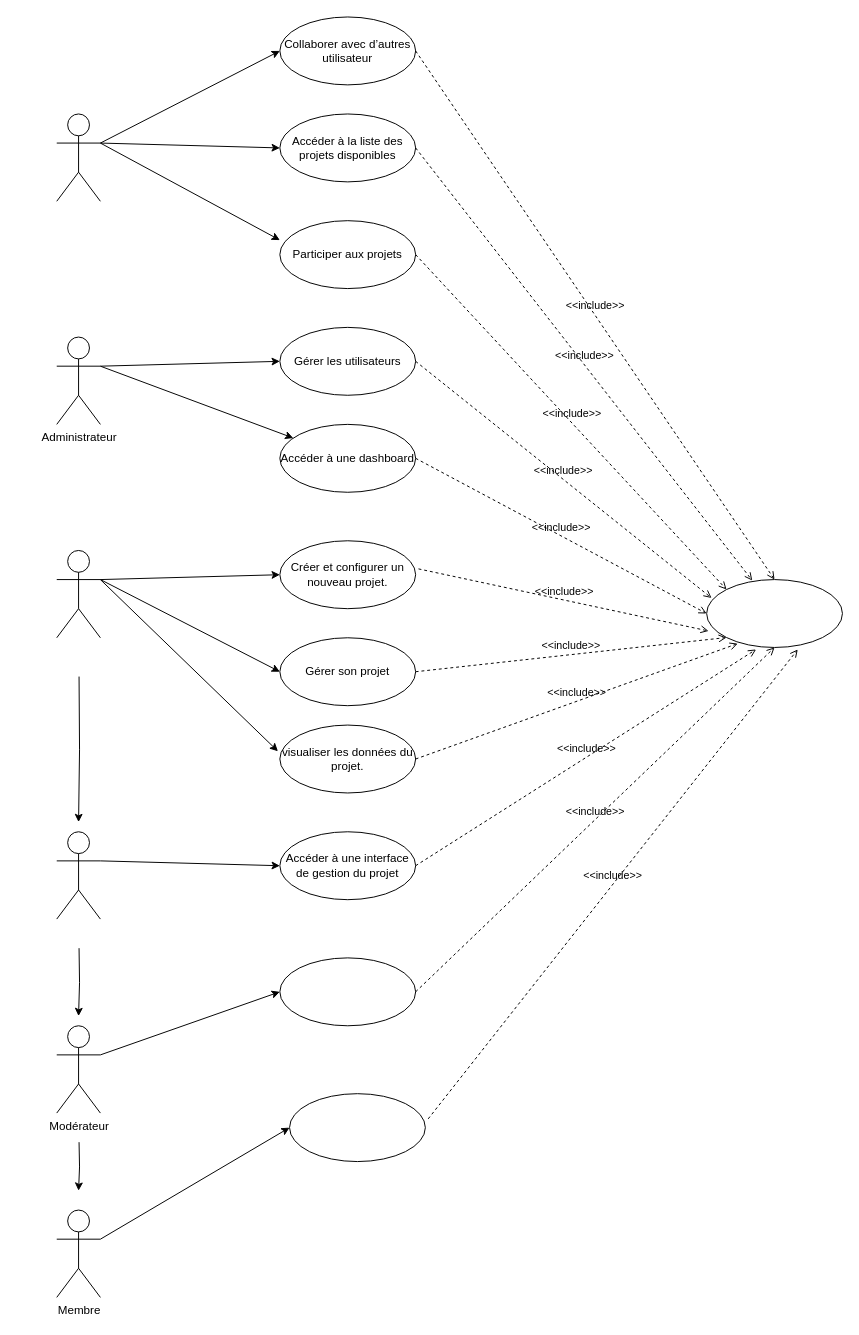
Image size: 859x1335. Some labels were removed from this diagram. Each missing label, with the centre of its shape:
"Administrateur de projet" goes at point 78,875.
"Modérer les discussions" goes at point 347,991.
"Participer aux réunions et aux discussions" goes at point 357,1127.
"Propriétaire de projet" goes at point 78,594.
"S'authentifier" goes at point 774,613.
"Utilisateur" goes at point 78,157.
